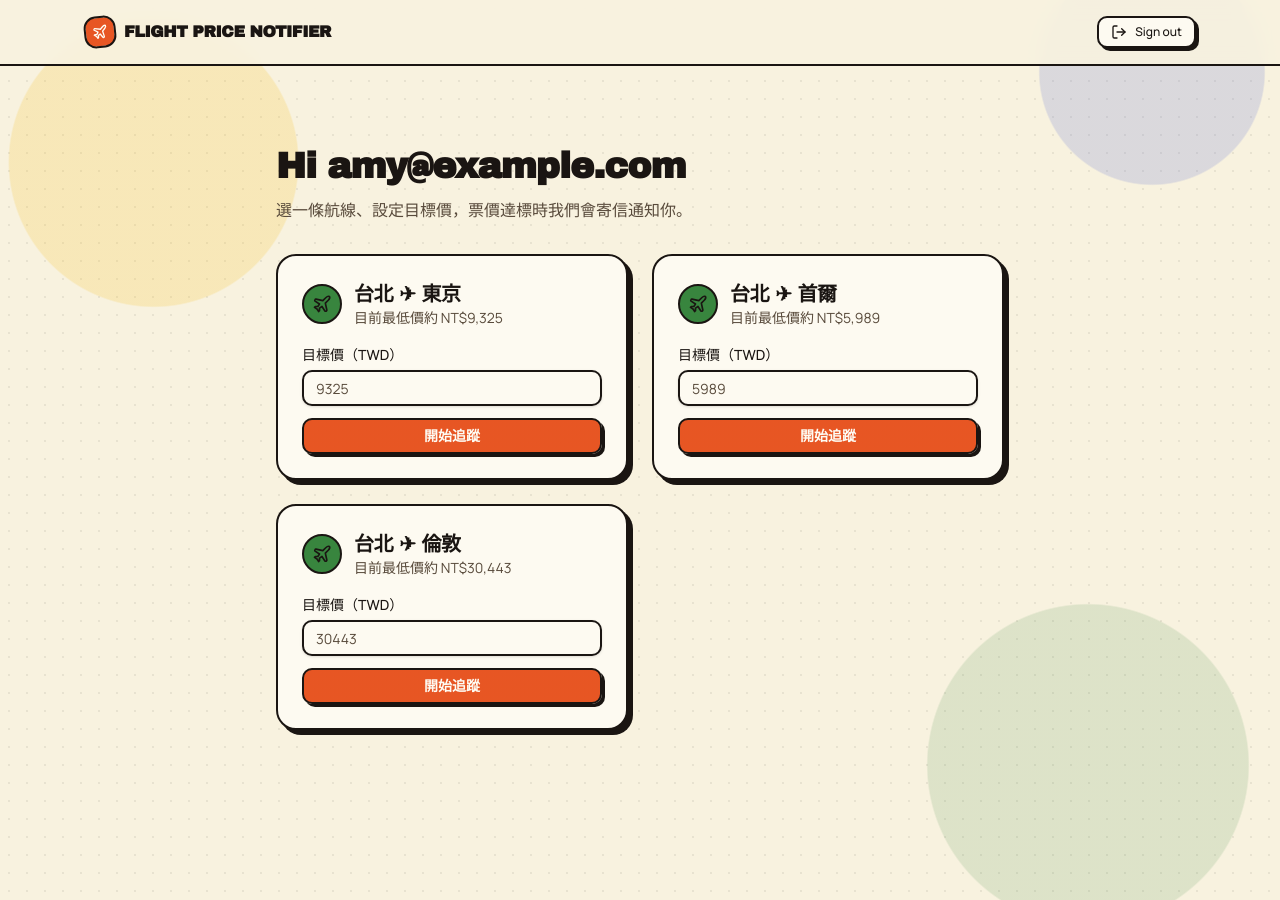
Test: Dashboard plan cards › blocks a negative target before sending
Type "-500" into the field labelled "目標價（TWD）" below "NT$9,325" at (452, 388), box top-left (302, 370), bottom-right (602, 406)
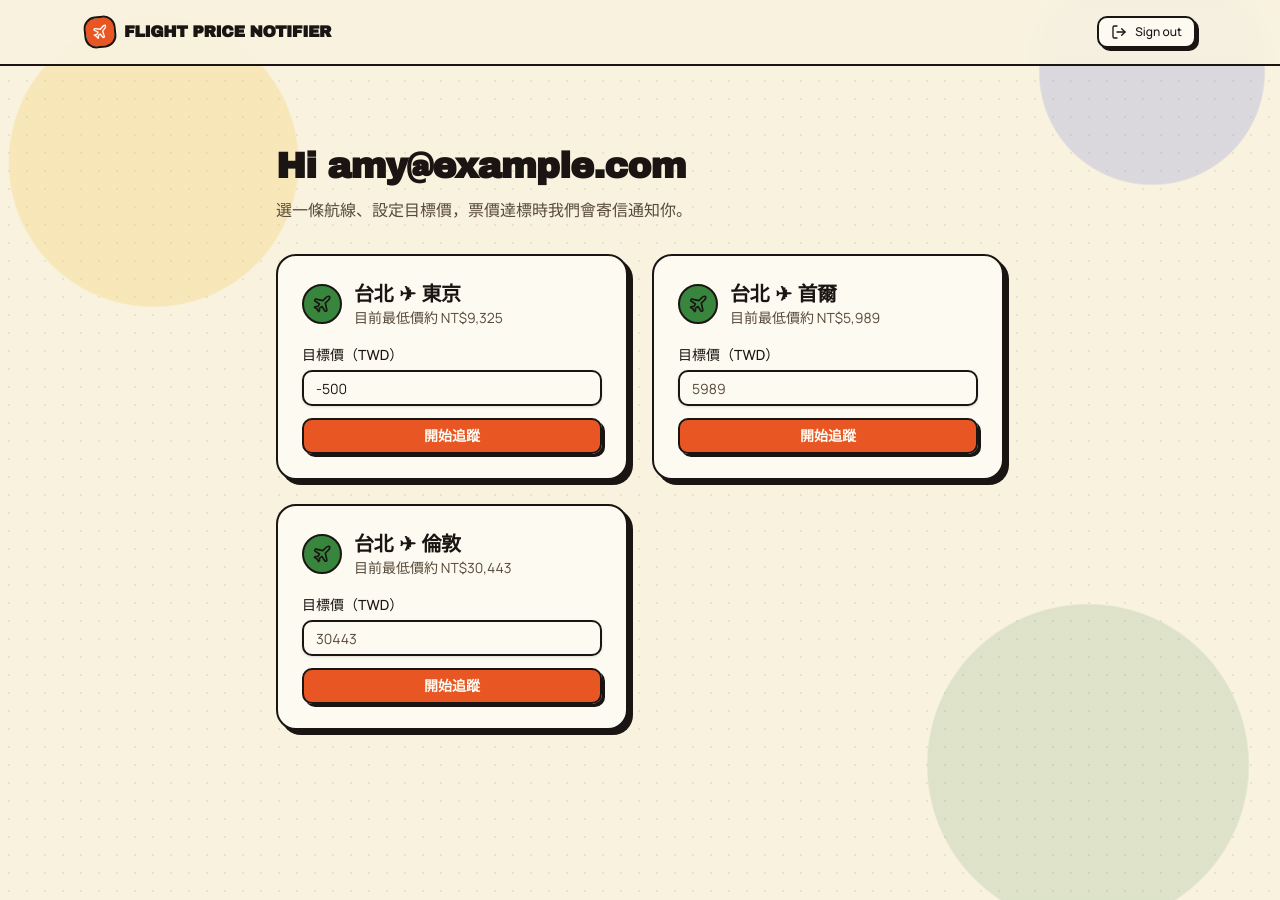
Click the button "開始追蹤" below "NT$9,325" at (452, 436), box top-left (302, 418), bottom-right (602, 454)
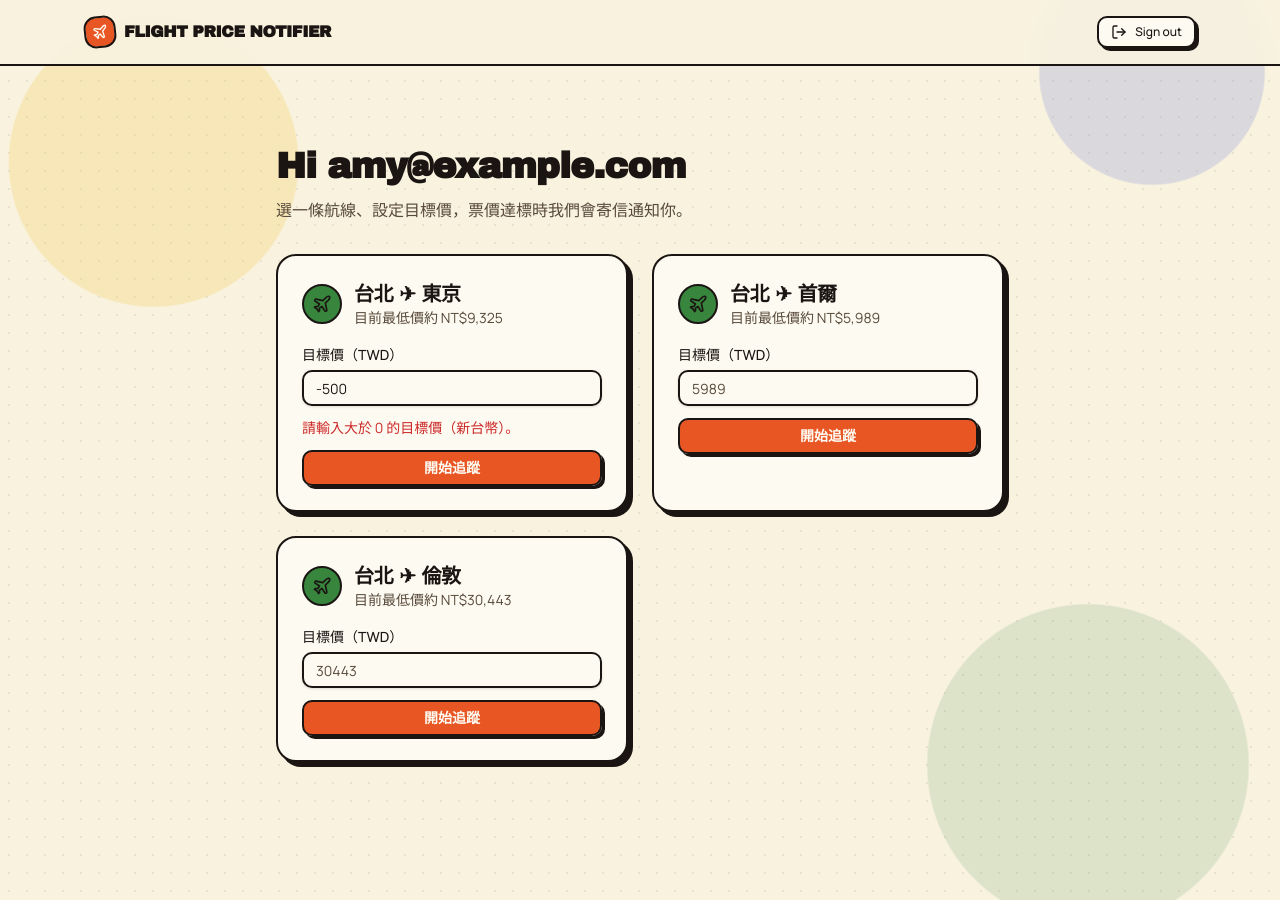
Expected: the message shows "大於 0", top-left (302, 418), bottom-right (519, 437)
